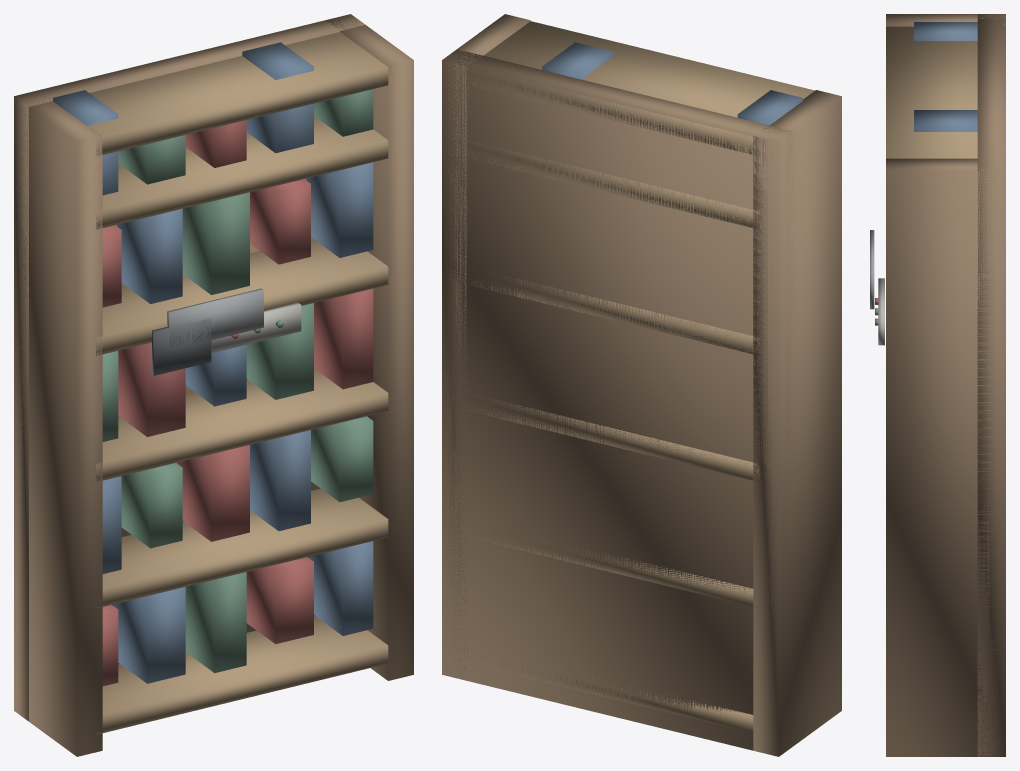
Rendered from library_stack_bay__weathered.glb.
3 renders of one model, left to right at view 1: azimuth 30°, elevation 25°; view 2: azimuth 150°, elevation 25°; view 3: azimuth 270°, elevation 25°, orthographic. The views are drawn at different scales.
Parts seen in each view (by area): view 1: world; view 2: world; view 3: world.
Part boxes in pixels (x1=…): world: x1=14, y1=14, x2=413, y2=756; world: x1=442, y1=14, x2=841, y2=756; world: x1=870, y1=14, x2=1005, y2=756.
Size of the model in its own units: 1.05 by 1.84 by 0.385.
